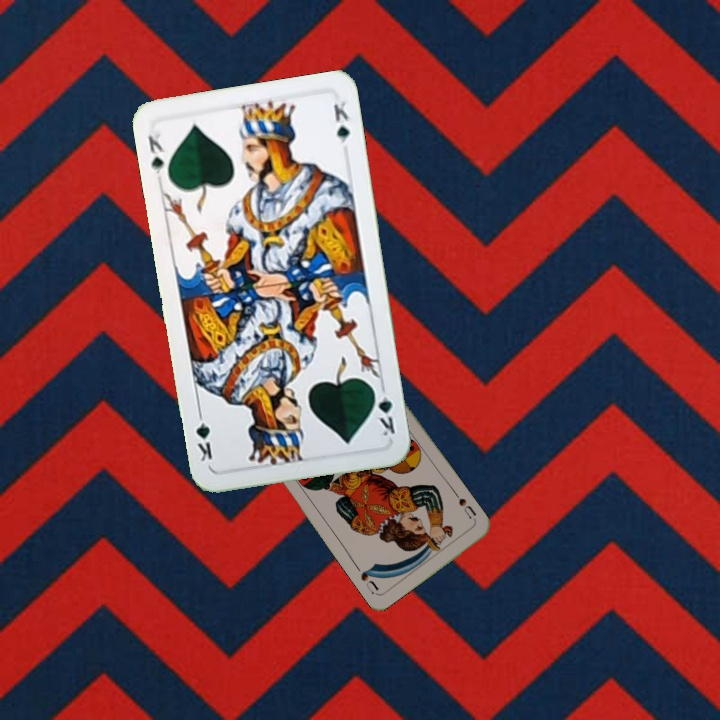GK: (369, 381, 398, 440), (144, 125, 167, 177)
SU: (454, 494, 479, 521)
